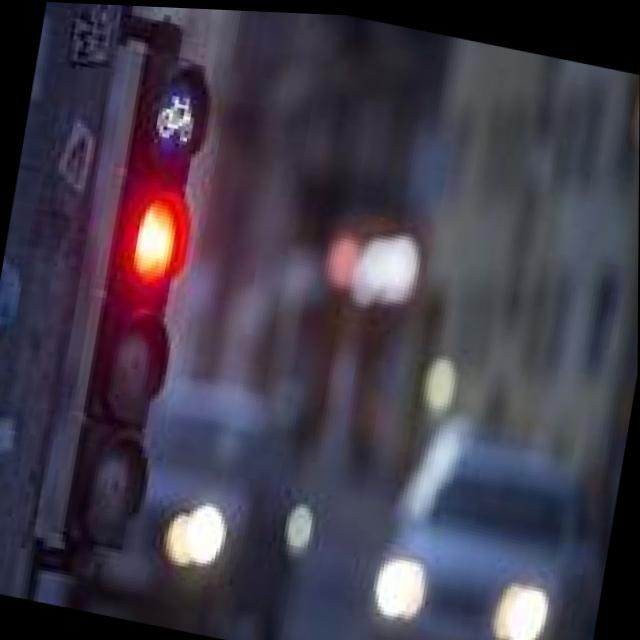red_light: (48, 163, 235, 354)
